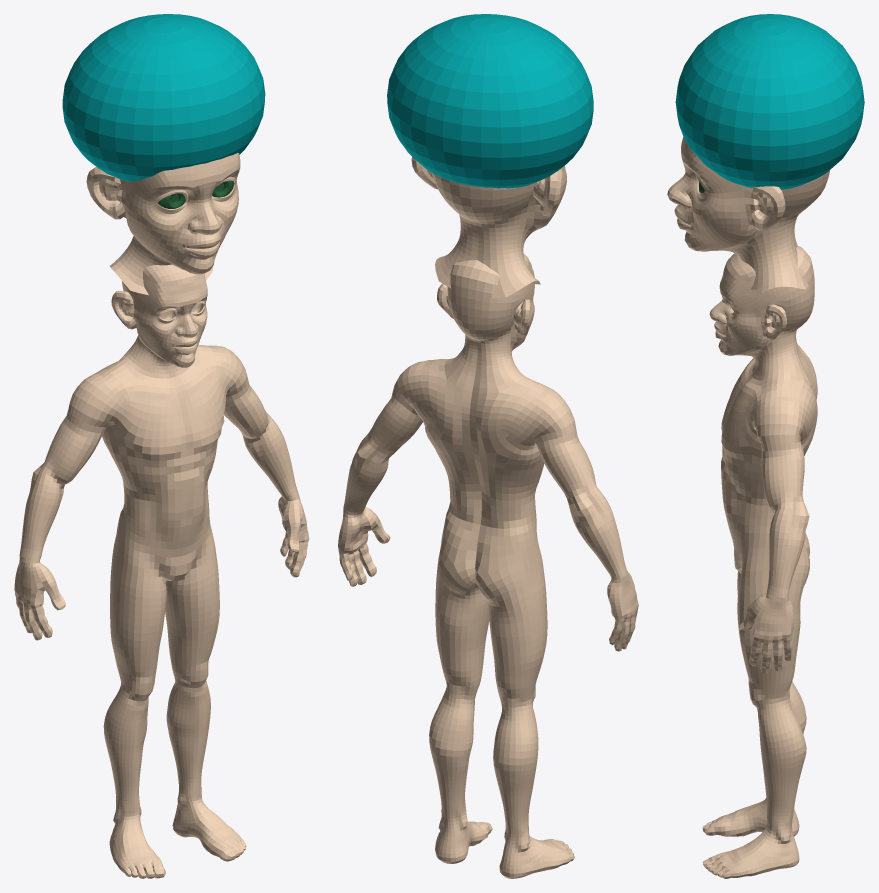
The model's file is sw_adventurer_base_v001.glb.
3 views of the same model, side by side, from view 1: azimuth 30°, elevation 25°; view 2: azimuth 150°, elevation 25°; view 3: azimuth 270°, elevation 25° (orthographic).
Parts seen in each view (by area): view 1: sw_base_body, sw_base_hair, sw_base_head; view 2: sw_base_body, sw_base_hair, sw_base_head; view 3: sw_base_body, sw_base_hair, sw_base_head.
Part boxes in pixels (x1,y1,x2,y2): sw_base_body: [14, 264, 309, 878]; sw_base_hair: [62, 14, 265, 181]; sw_base_head: [86, 153, 240, 295]; sw_base_body: [338, 254, 638, 878]; sw_base_hair: [387, 14, 593, 188]; sw_base_head: [411, 157, 566, 298]; sw_base_body: [702, 246, 817, 878]; sw_base_hair: [675, 14, 864, 189]; sw_base_head: [667, 137, 829, 297].
Size of the model in its own units: 0.6595 by 1.83 by 0.3968.
